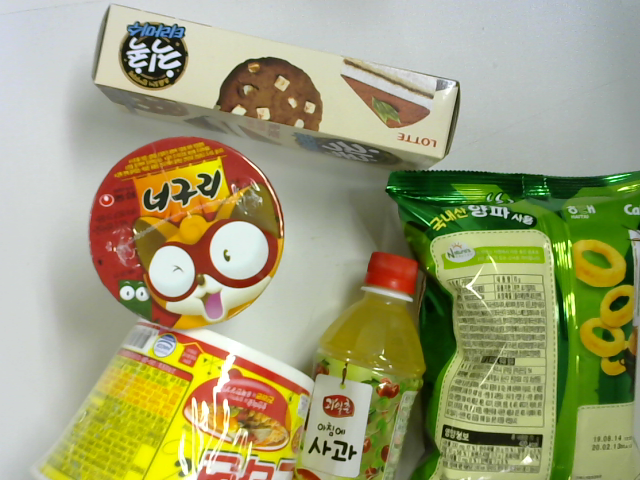Chicchok_Tiramisu: (83, 1, 463, 180)
Grilled_Onions: (372, 152, 636, 480)
Jinlamyeon_Hot_Taste_Large_Cup: (27, 305, 319, 480)
Morning_Apple_500ml: (299, 246, 439, 480)
Raccoon: (80, 128, 289, 343)
